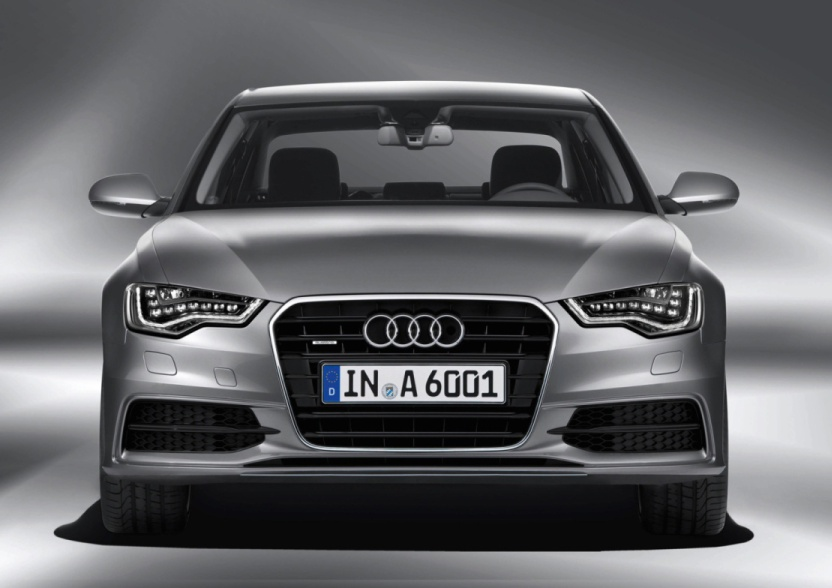audi: (356, 305, 469, 354)
